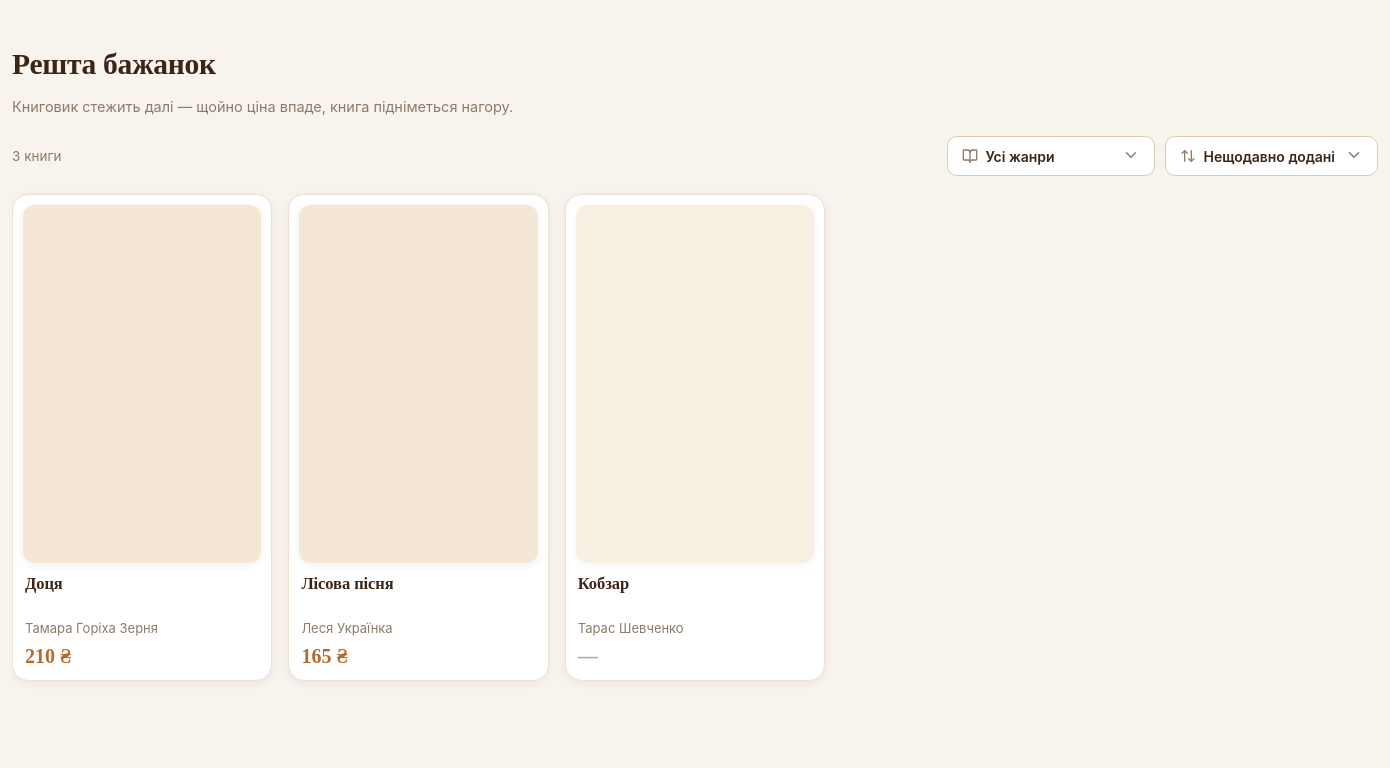
RestOfWishlist › filters by genre, sorts, and resets to page 1
Step 1. Click the button "Усі жанри" → (1050, 156), box [946,136,1154,176]
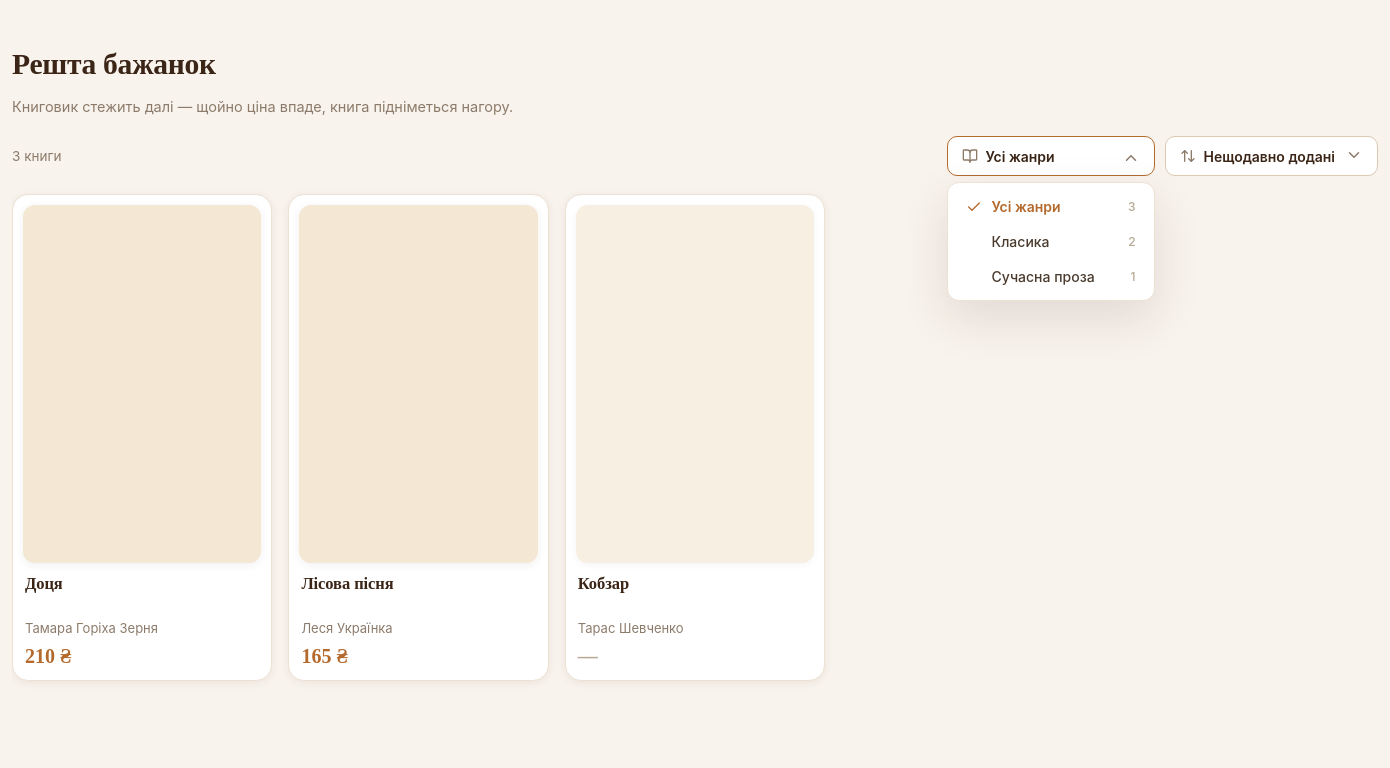
Step 2. Click the option "Класика 2" → (1050, 242), box [954,224,1148,259]
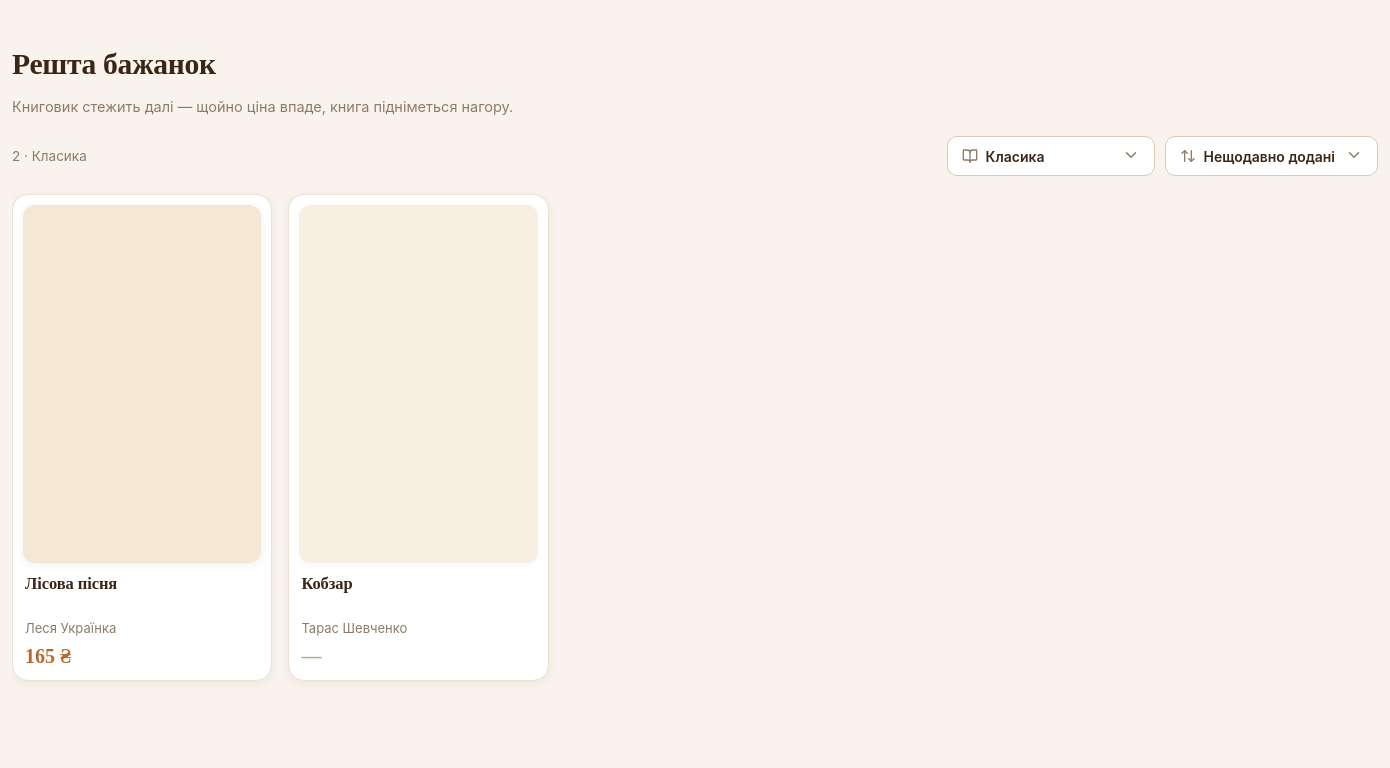
Expected: the text "Кобзар" is shown, [301,574,353,593]
Result: the text "2 · Класика" is shown at [12,146,87,167]
Result: the link "Доця" is gone
